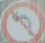Don't turn left: (2, 1, 41, 42)
